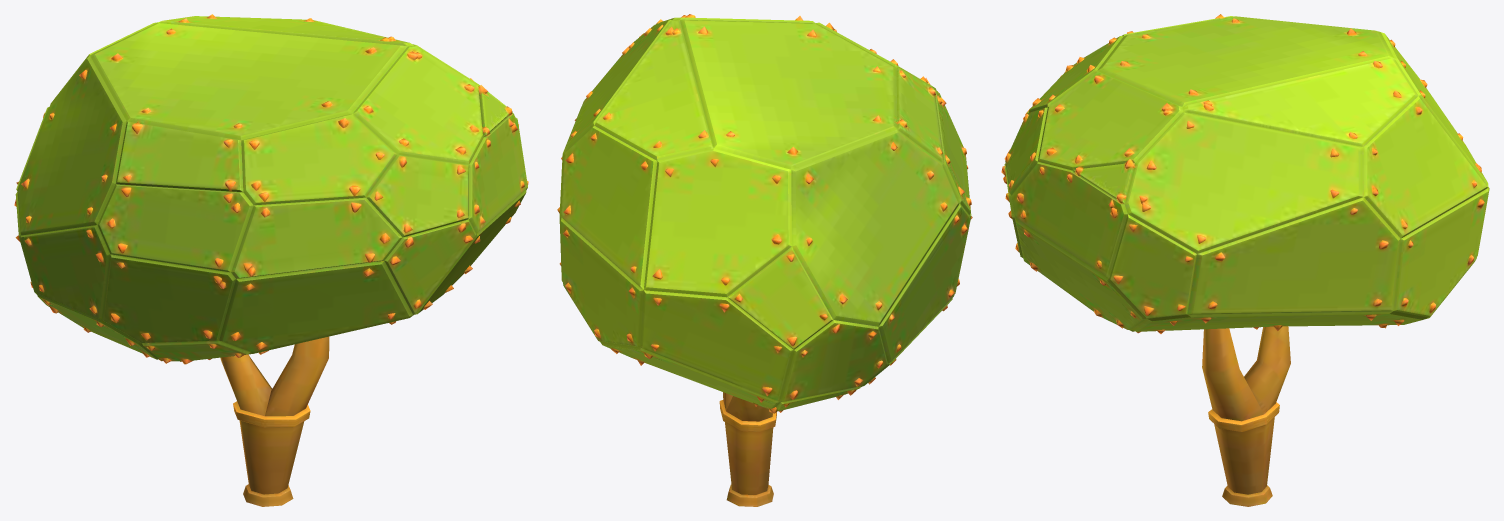
The model's file is obj_tree01_base.gltf.
The picture shows the model from 3 angles, left to right: view 1: azimuth 30°, elevation 25°; view 2: azimuth 150°, elevation 25°; view 3: azimuth 270°, elevation 25°; orthographic projection. The views are drawn at different scales.
Parts seen in each view (by area): view 1: obj_tree01_base; view 2: obj_tree01_base; view 3: obj_tree01_base.
Boxes of the visible parts, <box> form: obj_tree01_base: <box>14,14,528,506</box>; obj_tree01_base: <box>557,14,972,506</box>; obj_tree01_base: <box>1001,14,1489,506</box>.
Size of what is drawn, in the model's own units: 2.46 by 2.62 by 2.61.
1 material, 1 textured.
